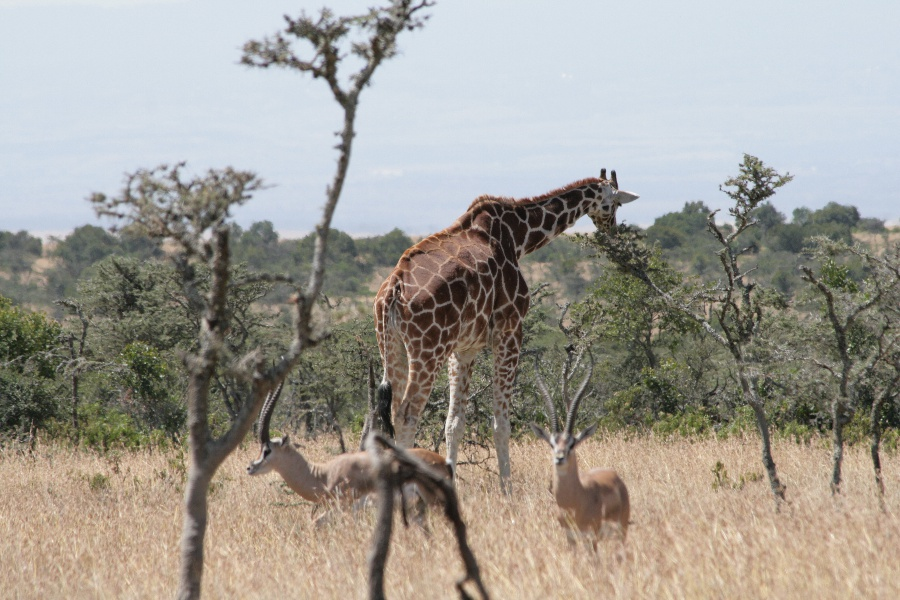giraffe: (364, 158, 644, 480)
